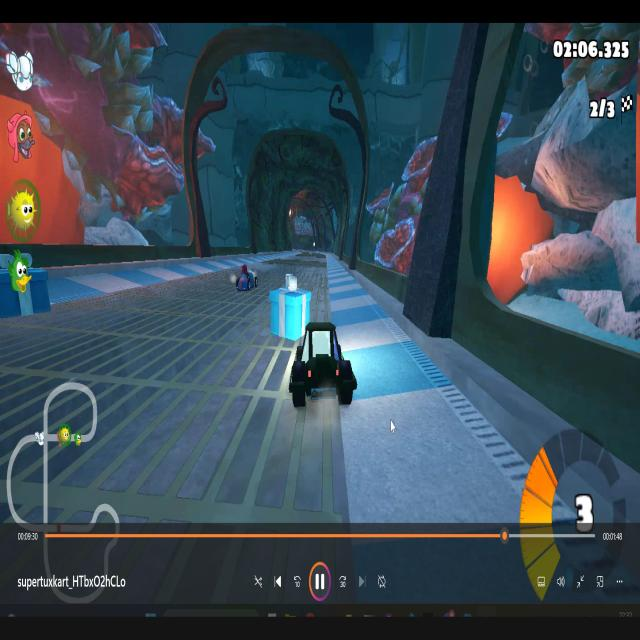bonus: (263, 273, 318, 345), (0, 266, 51, 316)
enemy_kart: (230, 259, 260, 291)
player_kart: (290, 322, 357, 406)
track: (1, 319, 260, 541), (262, 404, 339, 532), (257, 346, 288, 412), (168, 281, 223, 310), (224, 288, 262, 313), (132, 287, 167, 312), (105, 294, 132, 314), (301, 248, 323, 269), (280, 252, 299, 268), (260, 264, 280, 272)
